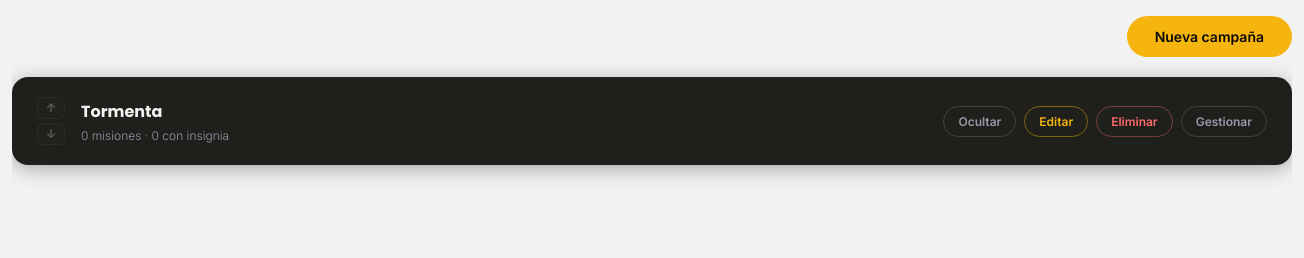
Test: hiding a campaign › marks the card as hidden without waiting for the write
Check: the heading "Tormenta" is shown, box x1=81 y1=100 x2=162 y2=123
Click the button "Ocultar": (980, 121) x1=944 y1=106 x2=1016 y2=136
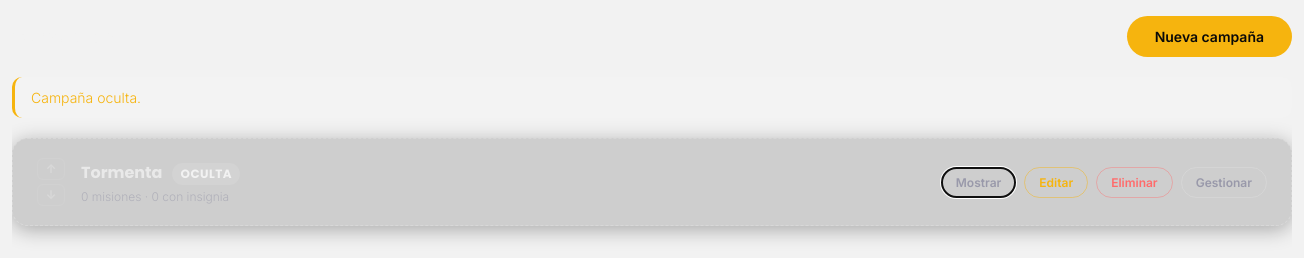
Check: the text "Oculta" is shown, box x1=172 y1=162 x2=240 y2=184
